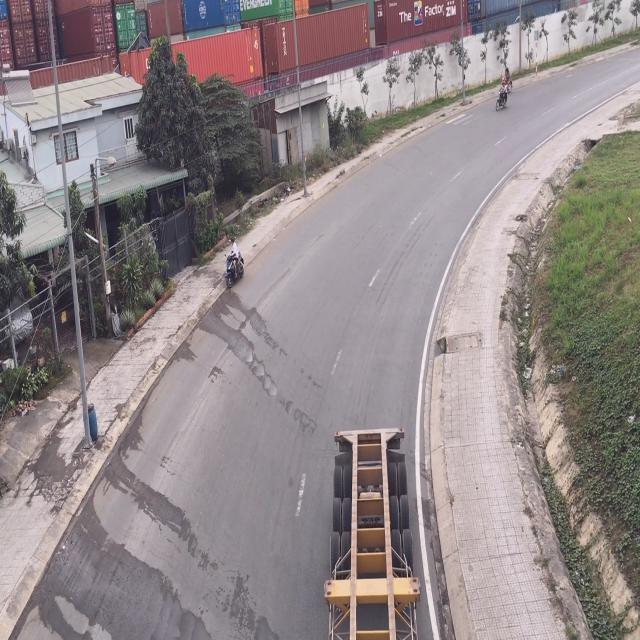motorbike: (226, 240, 247, 290), (495, 62, 512, 113)
